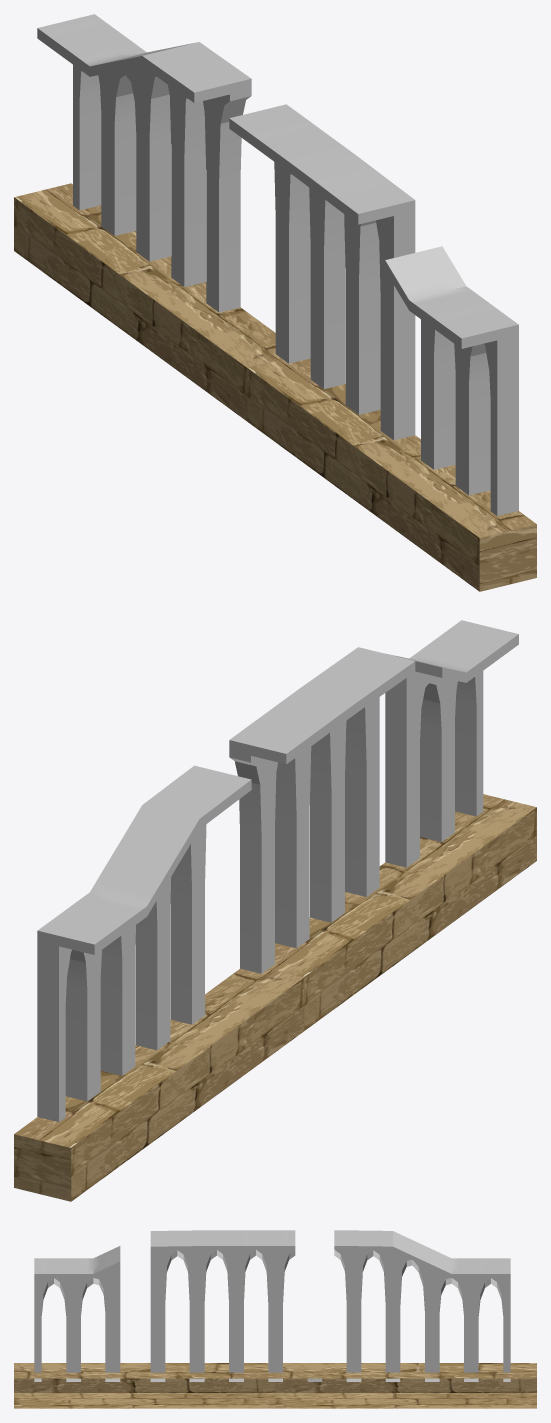
File: broken_narrow.fbx
3 views of the same model, one above another, from view 1: azimuth 30°, elevation 25°; view 2: azimuth 150°, elevation 25°; view 3: azimuth 270°, elevation 25° (orthographic). The views are drawn at different scales.
Parts seen in each view (by area): view 1: polySurface2029; view 2: polySurface2029; view 3: polySurface2029.
Part boxes in pixels (x1,y1,x2,y2): polySurface2029: (14, 14, 536, 591); polySurface2029: (14, 620, 536, 1201); polySurface2029: (14, 1230, 536, 1408).
Size of the model in its own units: 37.92 by 184 by 535.
